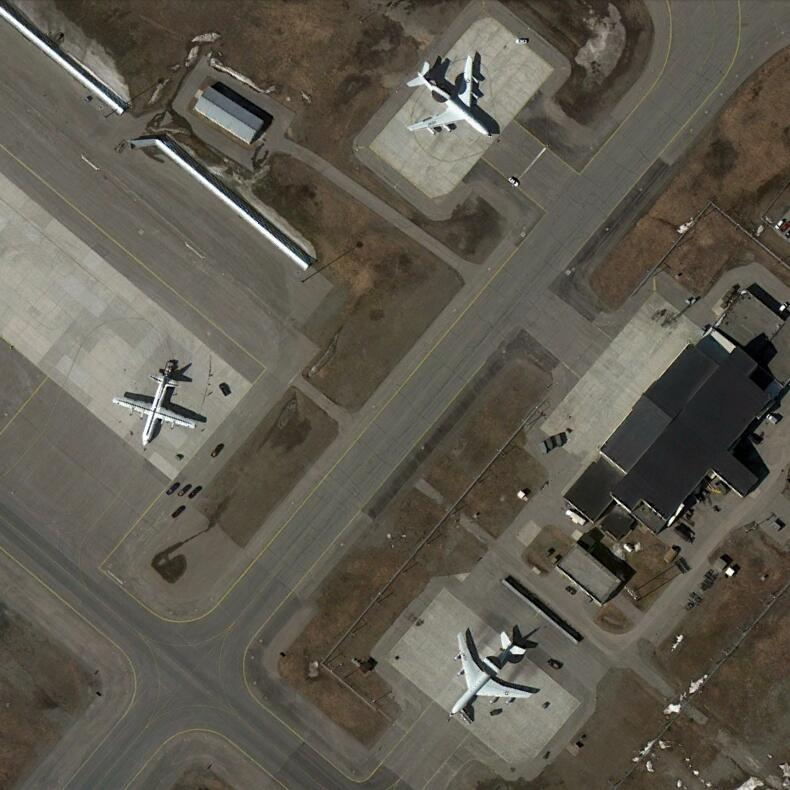A2: (111, 358, 208, 447)
A7: (447, 625, 535, 720), (405, 53, 492, 140)
